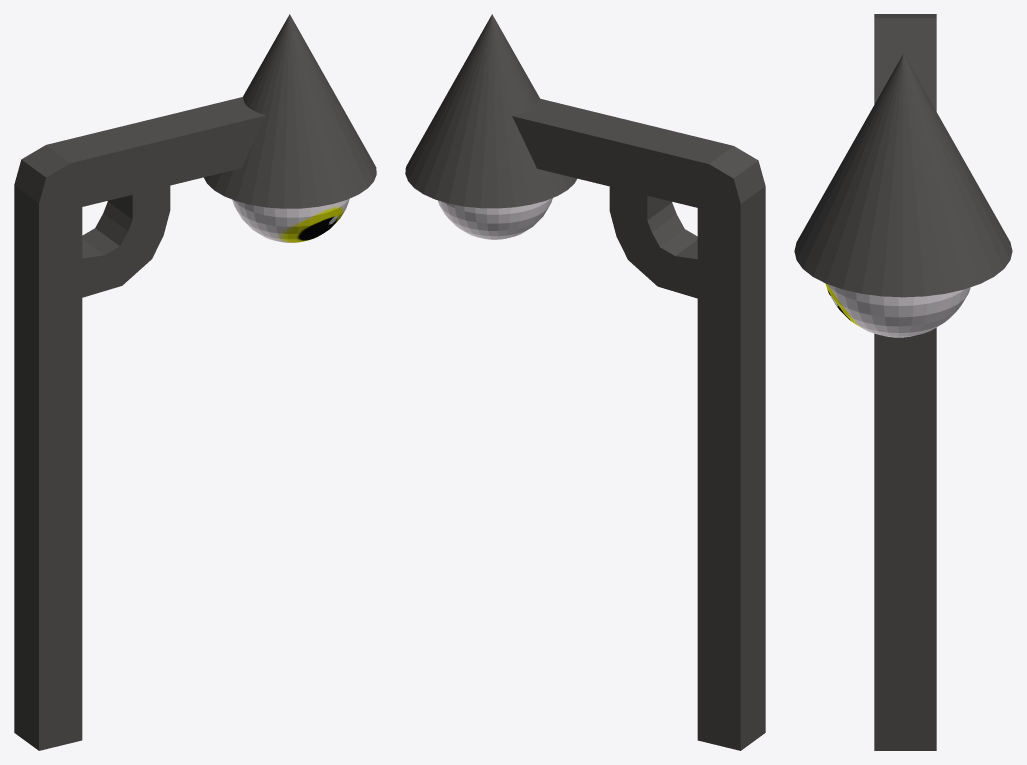
Rendered from lamppost.glb.
3 renders of one model, left to right at view 1: azimuth 30°, elevation 25°; view 2: azimuth 150°, elevation 25°; view 3: azimuth 270°, elevation 25°, orthographic. The views are drawn at different scales.
Parts seen in each view (by area): view 1: Cube, Sphere; view 2: Cube, Sphere; view 3: Cube, Sphere.
Boxes of the visible parts, x1=… form: Cube: x1=14, y1=14, x2=376, y2=750; Sphere: x1=232, y1=199, x2=349, y2=242; Cube: x1=405, y1=14, x2=765, y2=750; Sphere: x1=437, y1=198, x2=552, y2=239; Cube: x1=794, y1=14, x2=1012, y2=750; Sphere: x1=825, y1=283, x2=970, y2=337.
Bounding box in the file's own units: 15.67 × 29.45 × 7.
Materials: 2 (2 with a texture image).
